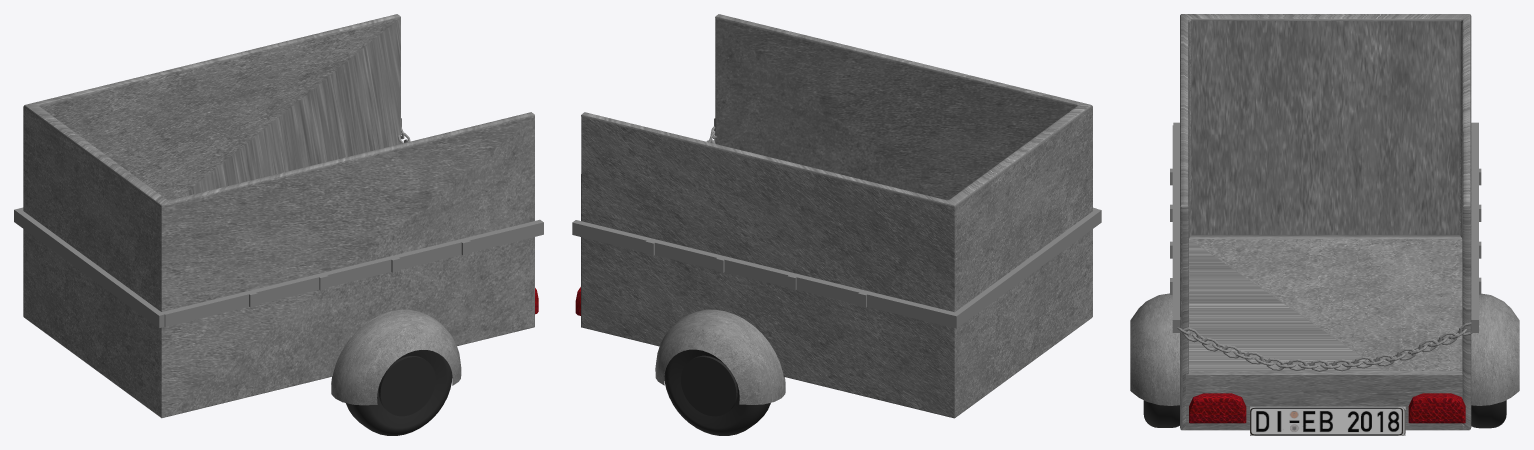
File: anhaengerTexturiert.fbx
3 renders of one model, left to right at view 1: azimuth 30°, elevation 25°; view 2: azimuth 150°, elevation 25°; view 3: azimuth 270°, elevation 25°, orthographic. The views are drawn at different scales.
Parts seen in each view (by area): view 1: polySurface76, polySurface39, polySurface73, polySurface78, polySurface40; view 2: polySurface76, polySurface71, polySurface75, polySurface38, polySurface40; view 3: polySurface76, polySurface72, polySurface39, polySurface71, polySurface77, polySurface75, polySurface73, polySurface74, polySurface69, polySurface38, polySurface78.
Boxes of the visible parts, box(x1,y1,x2,y2) form: polySurface76: box(23, 14, 534, 418); polySurface39: box(331, 309, 461, 405); polySurface73: box(163, 219, 543, 326); polySurface78: box(346, 350, 452, 435); polySurface40: box(14, 208, 164, 327); polySurface76: box(581, 14, 1092, 418); polySurface71: box(655, 309, 785, 404); polySurface75: box(572, 220, 953, 327); polySurface38: box(664, 349, 770, 435); polySurface40: box(950, 208, 1101, 328); polySurface76: box(1180, 14, 1471, 430); polySurface72: box(1186, 371, 1462, 430); polySurface39: box(1130, 293, 1179, 405); polySurface71: box(1471, 293, 1519, 405); polySurface77: box(1250, 406, 1405, 435); polySurface75: box(1471, 125, 1481, 332); polySurface73: box(1170, 125, 1180, 332); polySurface74: box(1408, 393, 1465, 423); polySurface69: box(1189, 393, 1246, 423); polySurface38: box(1471, 400, 1506, 428); polySurface78: box(1143, 400, 1179, 427).
Bounding box in the file's own units: 5.48 × 3.73 × 4.52.
6 materials, 3 textured.
